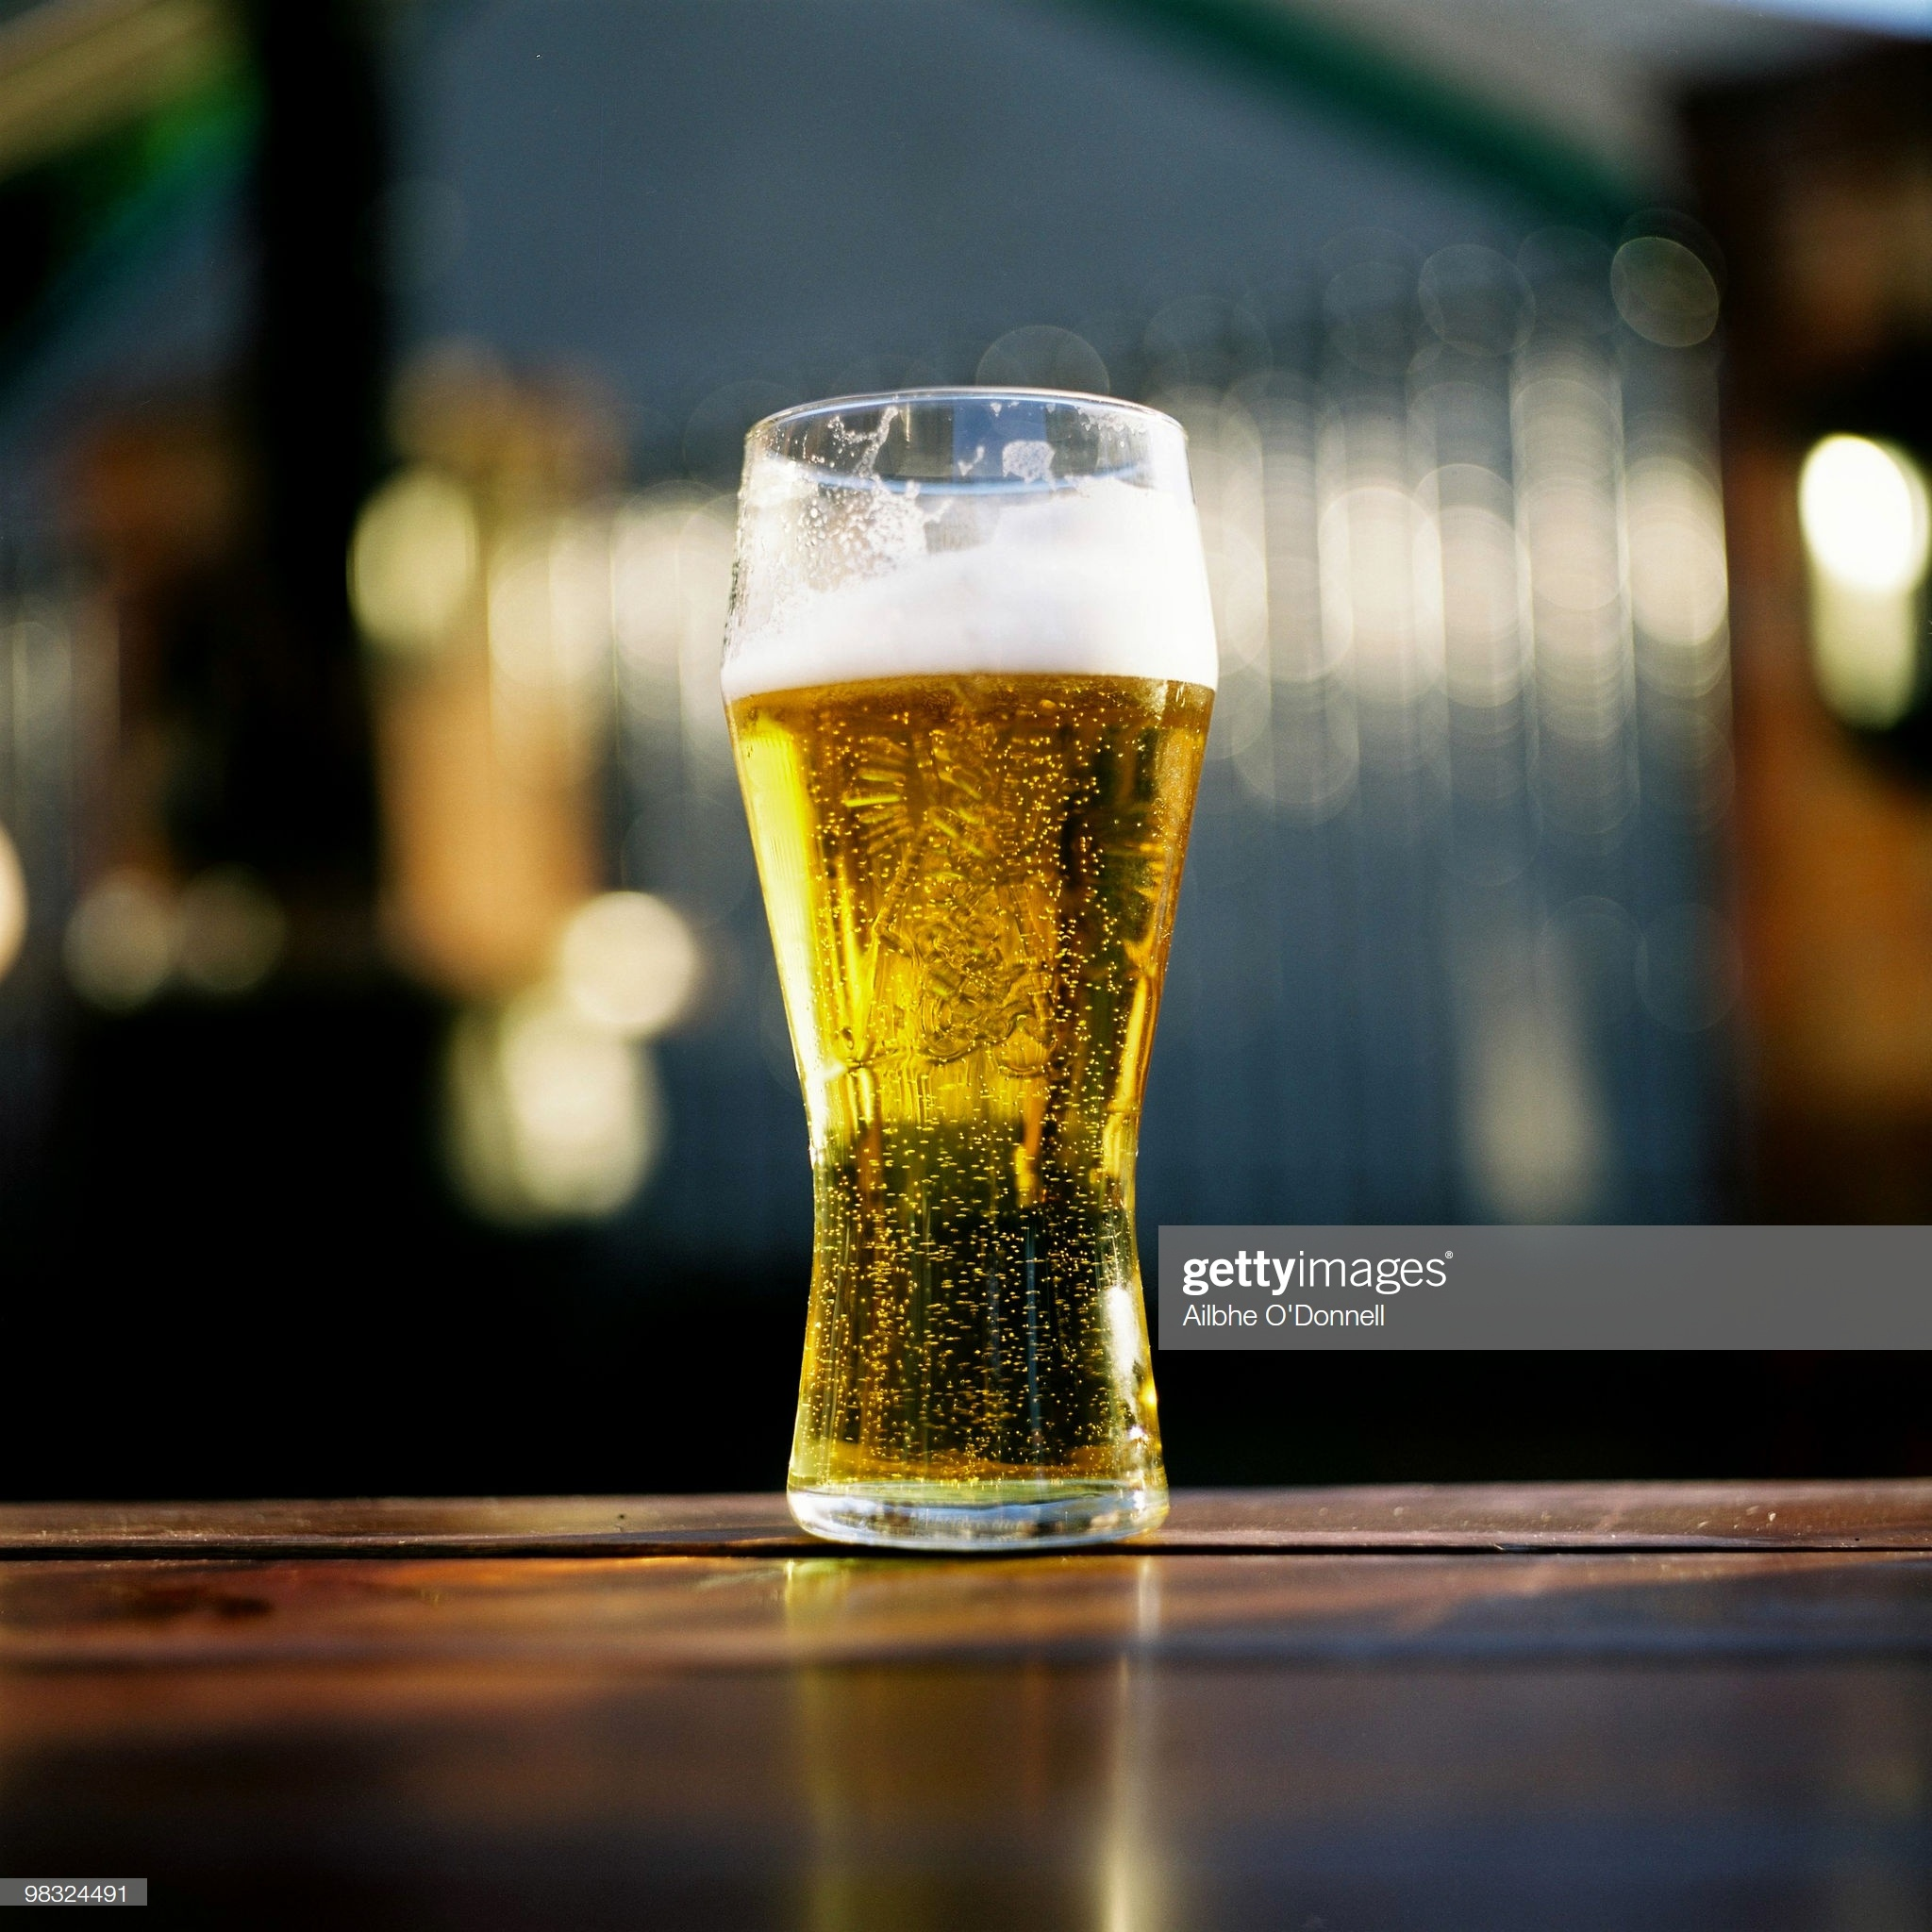glassBeer: (727, 387, 1210, 1536)
